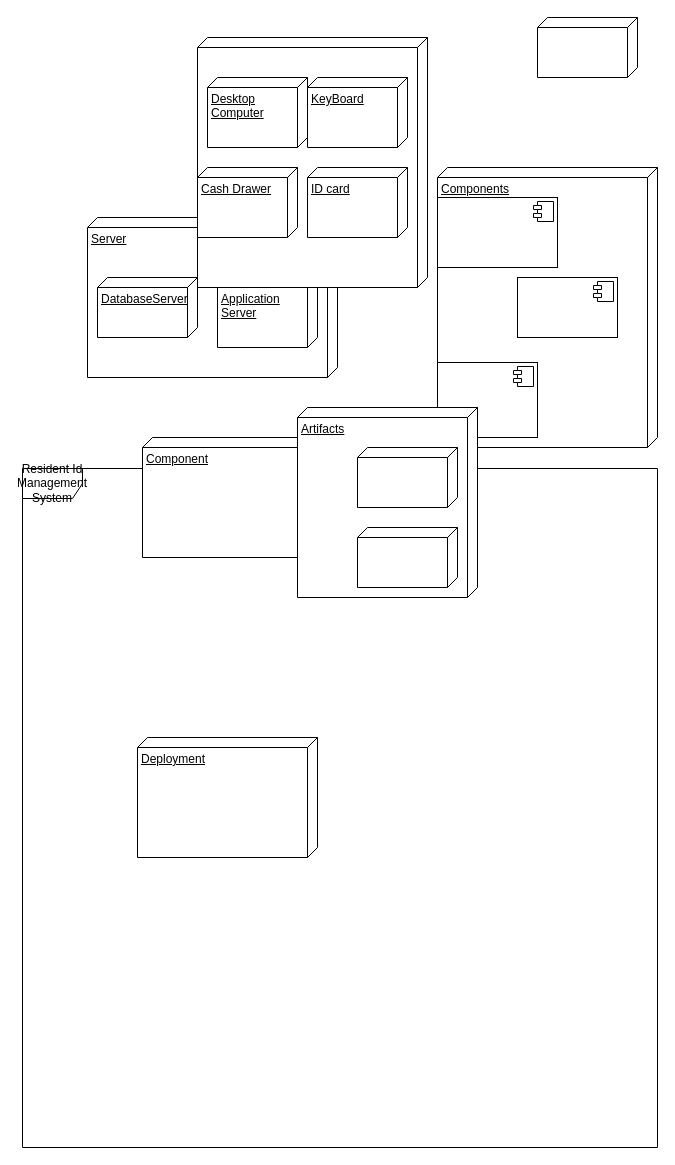
Image size: 675x1165. Some labels were removed from this diagram. The box of each missing label's shape, as (x1, y1, x2, y2) in pixels:
Business Logic: (436, 362, 538, 438)
centralized DB: (356, 446, 458, 508)
Databae Access: (436, 196, 558, 268)
Devices: (196, 36, 428, 288)
Resident ID mgmt: (356, 526, 458, 588)
User DEsign: (536, 16, 638, 78)
User interface: (516, 276, 618, 338)
